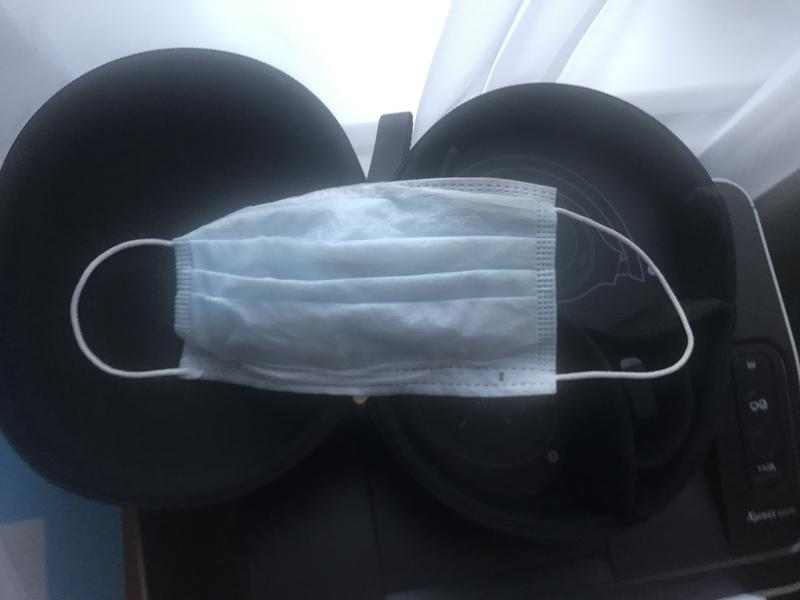medical_mask: (69, 176, 696, 400)
